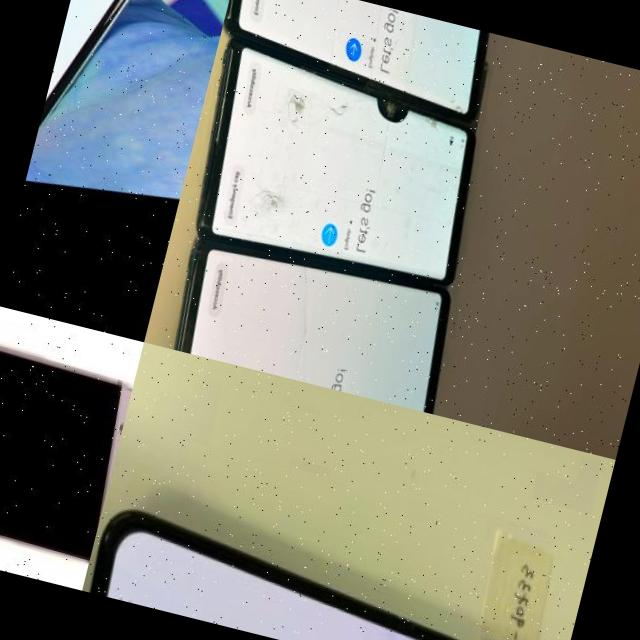dead pixel: (362, 73, 433, 155)
screen crack: (266, 254, 346, 385), (268, 76, 364, 159), (239, 168, 313, 248), (412, 111, 458, 160), (446, 90, 484, 124)
